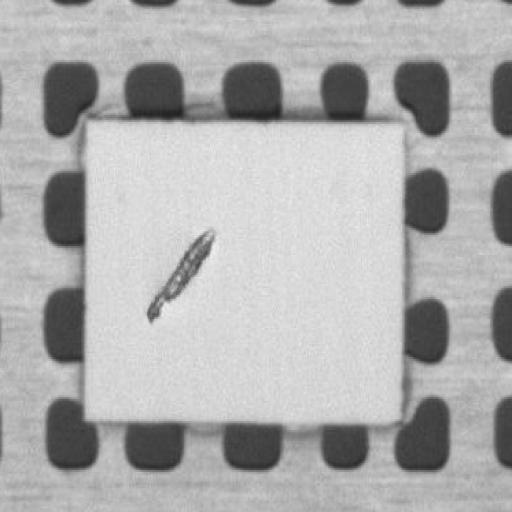DIE_INK: (184, 166, 293, 249)
